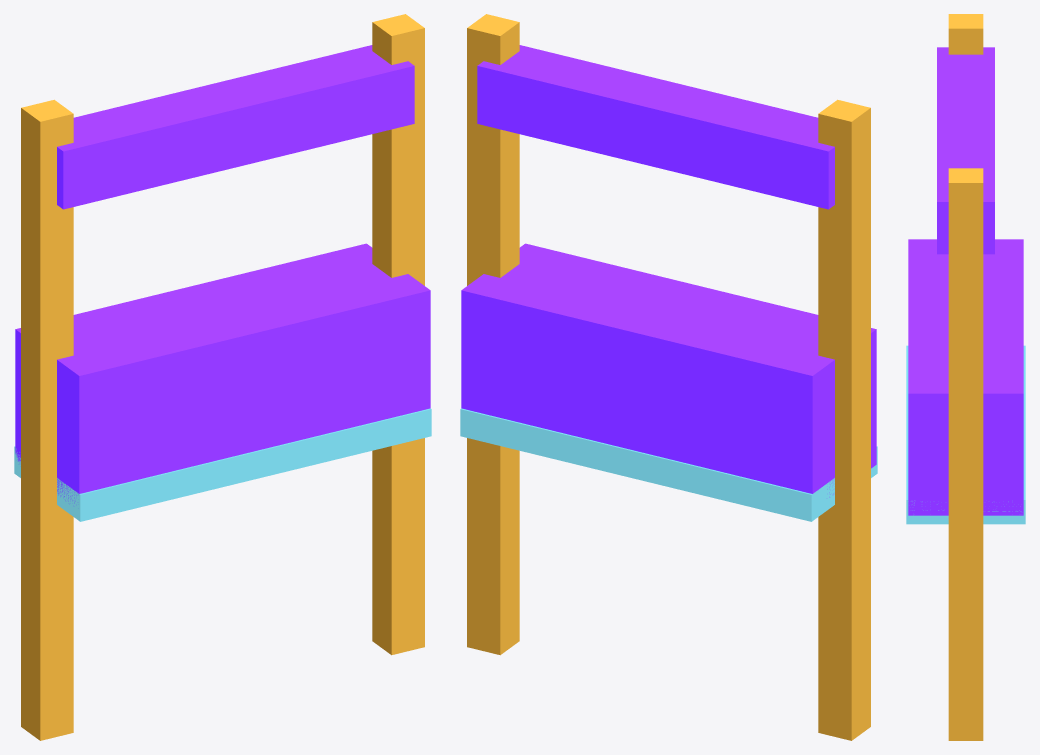
The model's file is slide-beam.glb.
3 views of the same model, side by side, from view 1: azimuth 30°, elevation 25°; view 2: azimuth 150°, elevation 25°; view 3: azimuth 270°, elevation 25° (orthographic). The views are drawn at different scales.
Parts seen in each view (by area): view 1: cosmic slide-beam; view 2: cosmic slide-beam; view 3: cosmic slide-beam.
Boxes of the visible parts, bbox=[...] form: cosmic slide-beam: bbox=[14, 14, 431, 740]; cosmic slide-beam: bbox=[460, 14, 877, 740]; cosmic slide-beam: bbox=[906, 14, 1025, 740].
Bounding box in the file's own units: 2.08 × 3.2 × 0.62.
